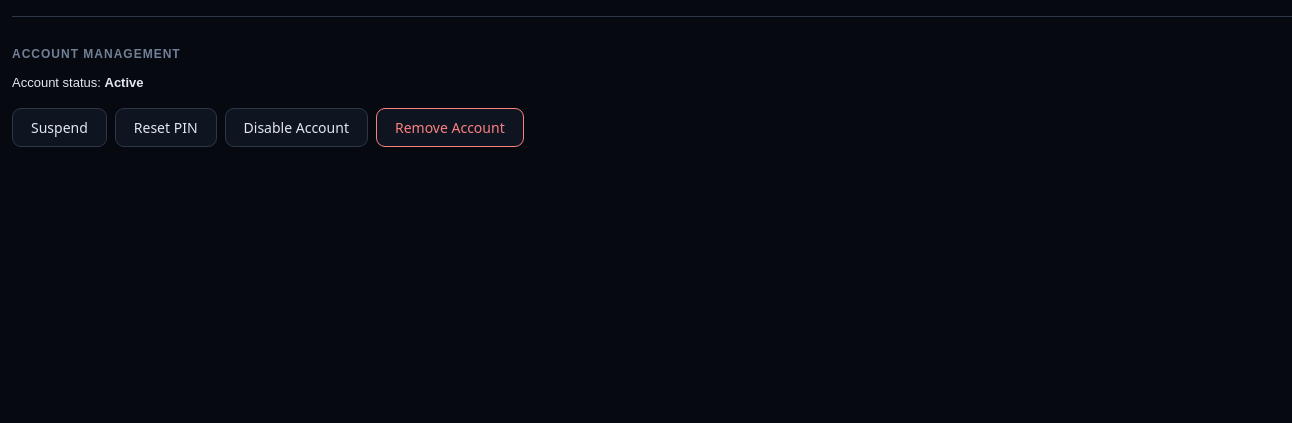
Test: ParticipantAccountManagement › validates suspend reason and remove confirmation
The width and height of the screenshot is (1292, 423).
Click the button "Suspend". click: point(59, 127)
box: [12,108,107,147]
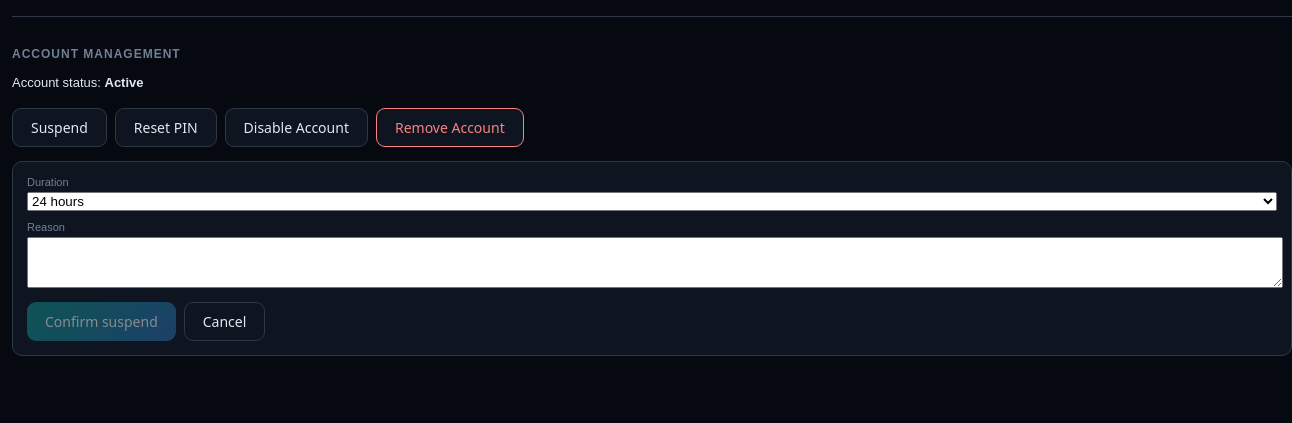
Now the button "Confirm suspend" is disabled, box [27,302,176,341]
Type "Valid reason here" into the text box. click: point(655, 262)
box: [27,237,1283,288]
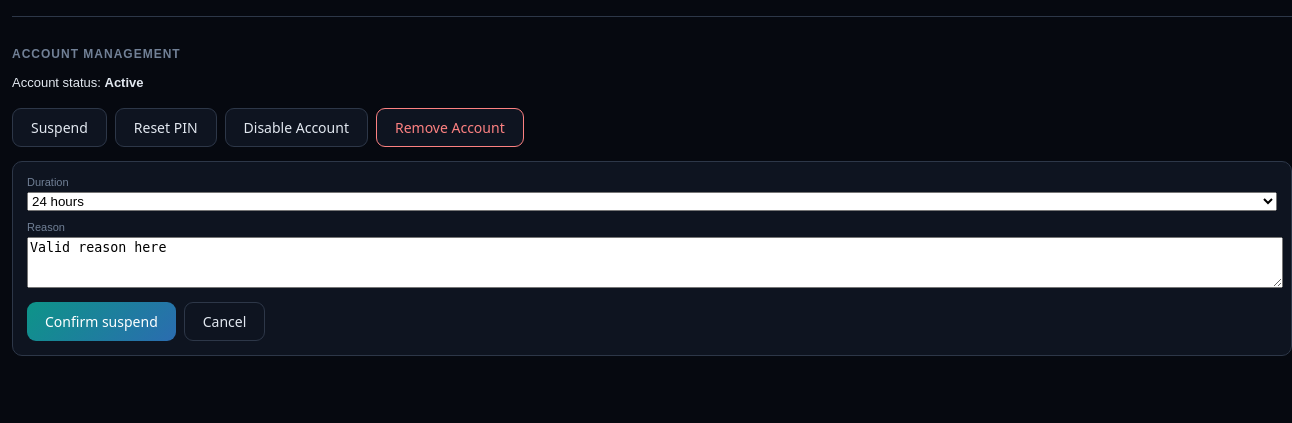
Now the button "Confirm suspend" is enabled
Click the button "Confirm suspend". click: point(101, 321)
box: [27,302,176,341]
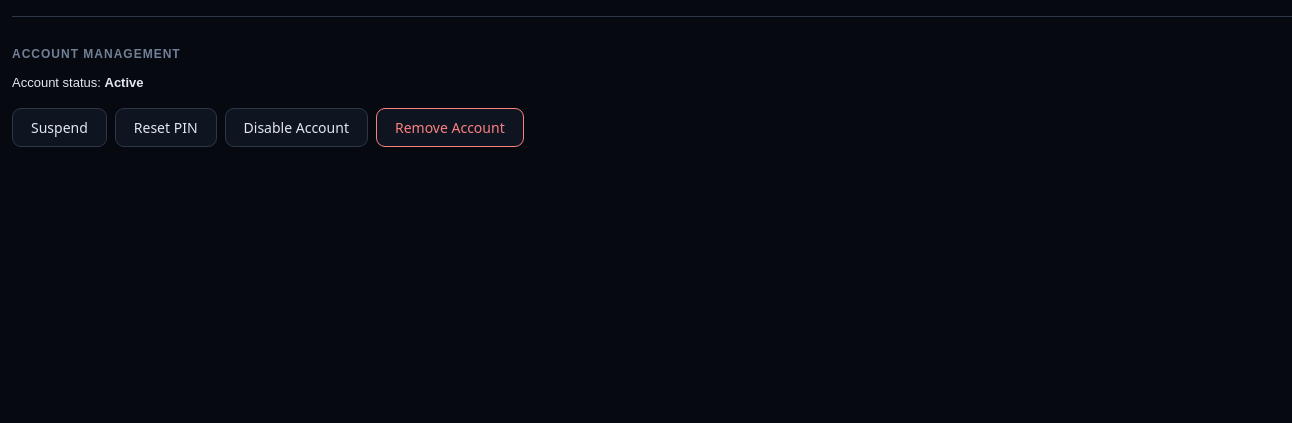
Click the button "Remove Account". click: point(450, 127)
box: [376,108,524,147]
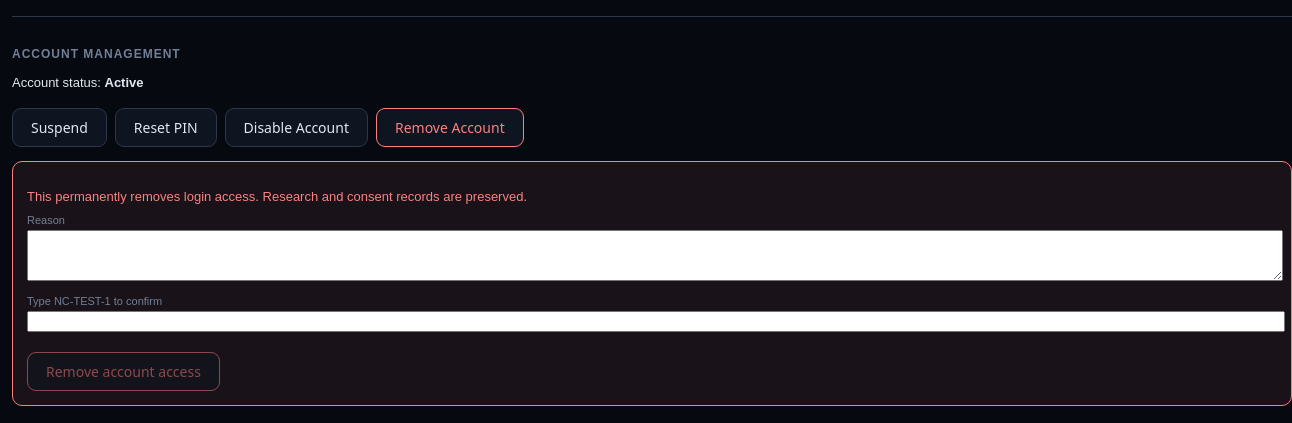
Now the button "Remove account access" is disabled, box [27,352,220,391]
Type "Requested removal reason" into the text box. click: point(655, 255)
box: [27,230,1283,281]
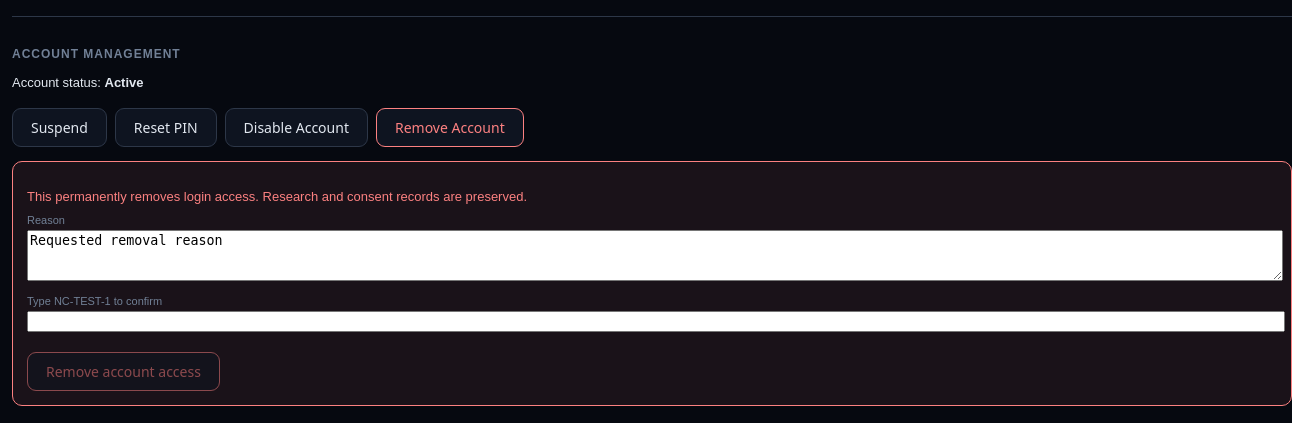
Type "NC-TEST-1" into the field. click: point(656, 321)
box: [27,311,1285,332]
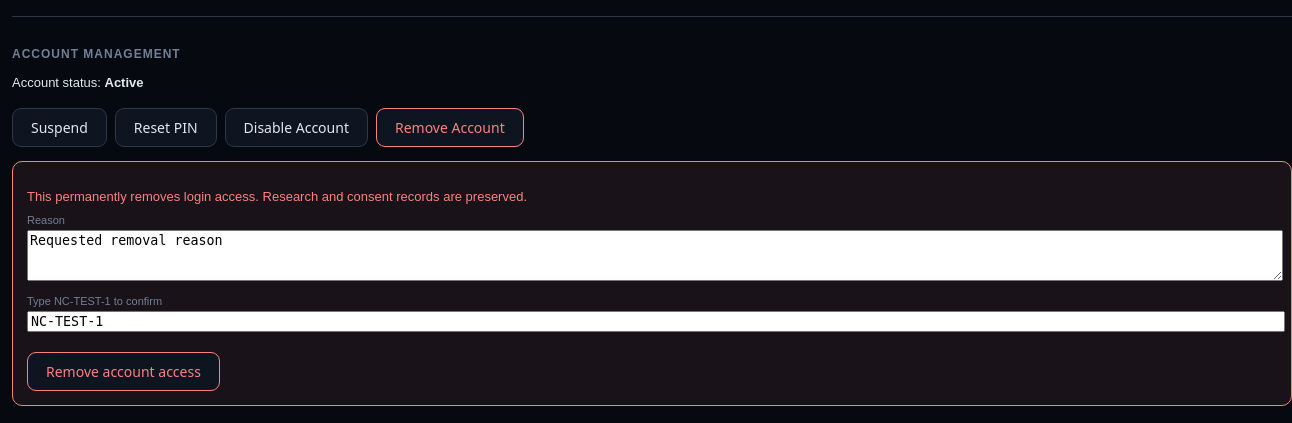
Now the button "Remove account access" is enabled, box [27,352,220,391]
